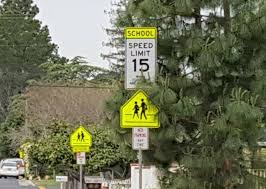pedestrianCrossing: (118, 89, 164, 129), (71, 124, 91, 145)
speedLimit15: (125, 37, 159, 78)
